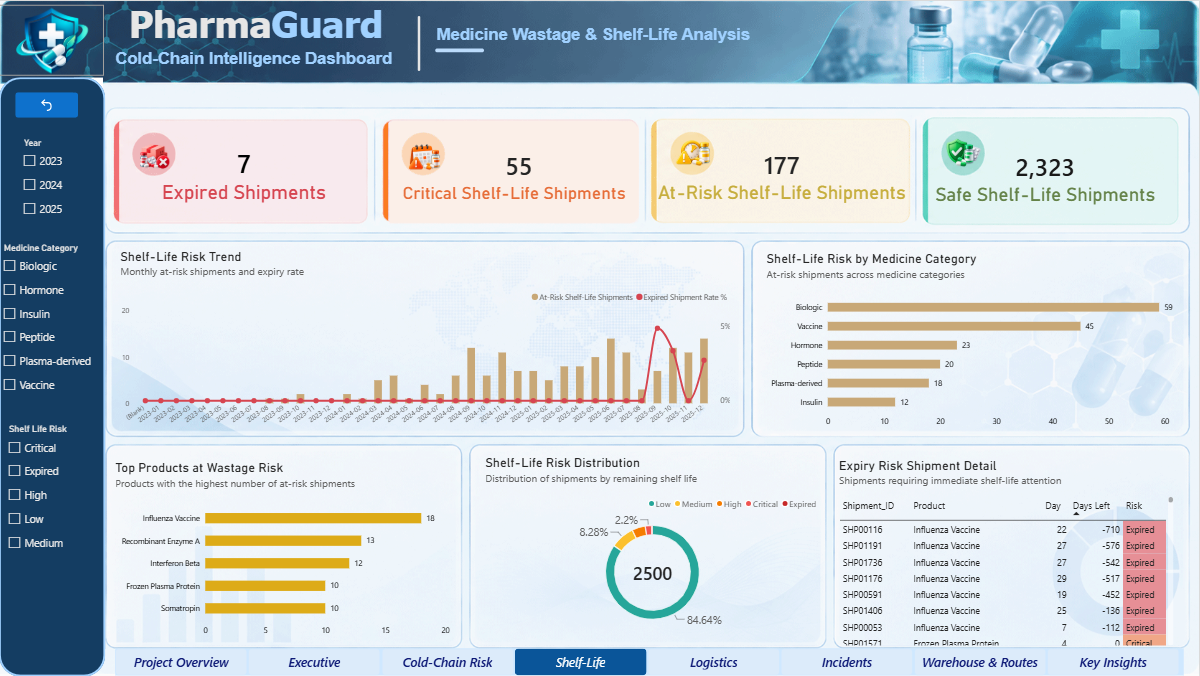

This screenshot's page, from the dashboard's own definition file:
{"tool":"powerbi","page":{"name":"Shelf-Life ","canvas":[1920,1080],"ordinal":3},"visuals":[{"type":"textbox","box":[207.8,0,510.7,75.7],"z":0},{"type":"textbox","box":[186.1,75.7,484.8,71.4],"z":1000},{"type":"shape","box":[582,24,180,88],"z":2000},{"type":"textbox","box":[699,39,512.9,41.1],"z":3000},{"type":"image","box":[0,6,168,114],"z":4000},{"type":"shape","box":[698,38,78,82],"z":5000},{"type":"shape","box":[0,121.2,170,958.8],"z":6000},{"type":"image","box":[629.3,223.3,109.3,52],"z":7000},{"type":"image","box":[1065.5,216.4,92.7,56.4],"z":8000},{"type":"image","box":[1502.7,216.4,83.6,56.4],"z":9000},{"type":"cardVisual","title":"Total Shipments","fields":{"Data":["_Measures.Expired Shipments"]},"box":[193,195,396,164],"z":10000},{"type":"cardVisual","title":"Total Shipments","fields":{"Data":["_Measures.Critical Shelf-Life Shipments"]},"box":[629.8,201.3,404.7,158],"z":11000},{"type":"cardVisual","title":"Total Shipments","fields":{"Data":["_Measures.At-Risk Shelf-Life Shipments"]},"box":[1034.4,201.1,437.8,157.8],"z":12000},{"type":"cardVisual","title":"Total Shipments","fields":{"Data":["_Measures.Safe Shelf-Life Shipments"]},"box":[1471.6,203.4,404.7,158],"z":13000},{"type":"slicer","fields":{"Values":["Dim_Date.Year"]},"box":[32.6,217.4,109.1,183.6],"z":14000},{"type":"slicer","fields":{"Values":["Products.Medicine_Category"]},"box":[0,386,158.8,275],"z":15000},{"type":"slicer","fields":{"Values":["Shipments.Shelf_Life_Risk"]},"box":[8.2,676.8,148.4,237.1],"z":16000},{"type":"image","box":[192.9,221.2,109.1,51.8],"z":17000},{"type":"lineClusteredColumnComboChart","title":"Shelf-Life Risk Trend","fields":{"Category":["Dim_Date.Year_Month"],"Y":["_Measures.At-Risk Shelf-Life Shipments"],"Y2":["_Measures.Expired Shipment Rate %"]},"box":[177.1,382.9,1007.1,315.7],"z":18000},{"type":"clusteredBarChart","title":"Shelf-Life Risk by Medicine Category","fields":{"Category":["Products.Medicine_Category"],"Y":["_Measures.At-Risk Shelf-Life Shipments"]},"box":[1211.9,385.2,688.2,316],"z":19000},{"type":"clusteredBarChart","title":"Top Products at Wastage Risk","fields":{"Y":["_Measures.At-Risk Shelf-Life Shipments"],"Category":["Products.Product_Name"]},"box":[171,720.7,567,316],"z":20000},{"type":"donutChart","title":"Shelf-Life Risk Distribution","fields":{"Category":["Shipments.Shelf_Life_Risk"],"Y":["Count(Shipments.Shipment_ID)"]},"box":[762.5,712.5,567,313.8],"z":21000},{"type":"tableEx","title":"Expiry Risk Shipment Detail","fields":{"Values":["Shipments.Shipment_ID","Products.Product_Name","Shipments.Expiry_Date.Variation.Date Hierarchy.Day","Sum(Shipments.Shelf_Life_Remaining_Days)","Shipments.Shelf_Life_Risk"]},"box":[1328.8,716.3,567,331.1],"z":22000},{"type":"pageNavigator","box":[186.1,1036.6,1709.7,43.3],"z":23000},{"type":"actionButton","box":[25,146.7,100.6,40.8],"z":24000}]}

Visuals, with their boxes on the page's 1920x1080 design canvas (x1, y1, x2, y2). These are canvas units, not pixel positions in the 1200x676 screenshot, which may show the page scaled, cropped or inside an application window:
textbox: x1=208, y1=0, x2=718, y2=76
textbox: x1=186, y1=76, x2=671, y2=147
shape: x1=582, y1=24, x2=762, y2=112
textbox: x1=699, y1=39, x2=1212, y2=80
image: x1=0, y1=6, x2=168, y2=120
shape: x1=698, y1=38, x2=776, y2=120
shape: x1=0, y1=121, x2=170, y2=1080
image: x1=629, y1=223, x2=739, y2=275
image: x1=1066, y1=216, x2=1158, y2=273
image: x1=1503, y1=216, x2=1586, y2=273
"Total Shipments" cardVisual: x1=193, y1=195, x2=589, y2=359
"Total Shipments" cardVisual: x1=630, y1=201, x2=1034, y2=359
"Total Shipments" cardVisual: x1=1034, y1=201, x2=1472, y2=359
"Total Shipments" cardVisual: x1=1472, y1=203, x2=1876, y2=361
slicer - Dim_Date.Year: x1=33, y1=217, x2=142, y2=401
slicer - Products.Medicine_Category: x1=0, y1=386, x2=159, y2=661
slicer - Shipments.Shelf_Life_Risk: x1=8, y1=677, x2=157, y2=914
image: x1=193, y1=221, x2=302, y2=273
"Shelf-Life Risk Trend" lineClusteredColumnComboChart: x1=177, y1=383, x2=1184, y2=699
"Shelf-Life Risk by Medicine Category" clusteredBarChart: x1=1212, y1=385, x2=1900, y2=701
"Top Products at Wastage Risk" clusteredBarChart: x1=171, y1=721, x2=738, y2=1037
"Shelf-Life Risk Distribution" donutChart: x1=762, y1=712, x2=1330, y2=1026
"Expiry Risk Shipment Detail" tableEx: x1=1329, y1=716, x2=1896, y2=1047
pageNavigator: x1=186, y1=1037, x2=1896, y2=1080
actionButton: x1=25, y1=147, x2=126, y2=188
